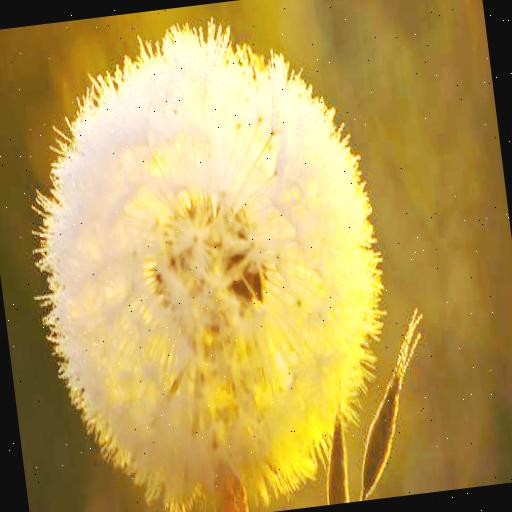dandelion: (8, 3, 409, 512)
